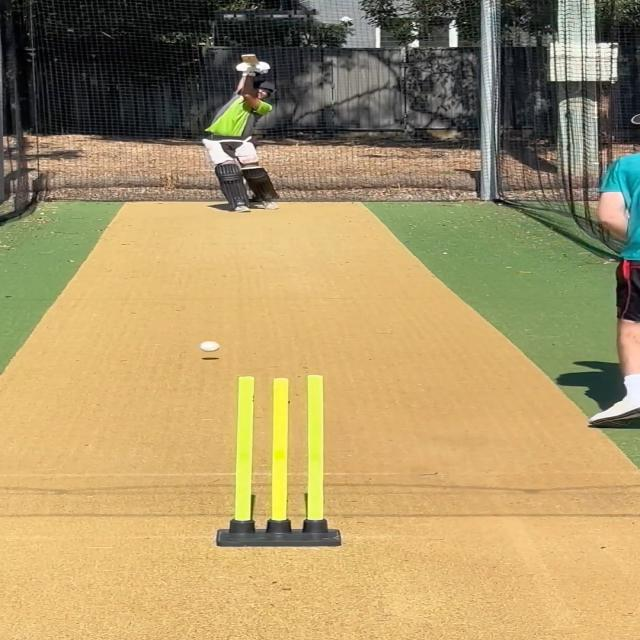ball: (195, 338, 224, 355)
stump: (216, 373, 343, 548)
